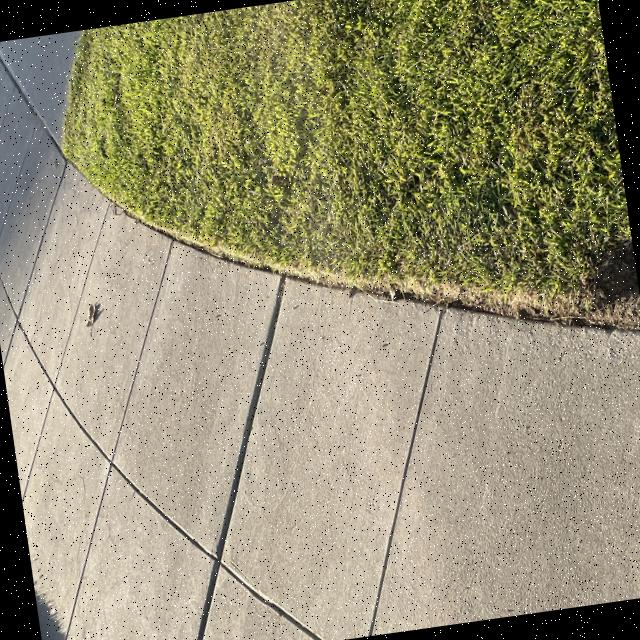walkway: (296, 266, 508, 640), (134, 438, 465, 640), (442, 291, 640, 616), (5, 275, 193, 532), (57, 384, 238, 613), (0, 160, 131, 396)
